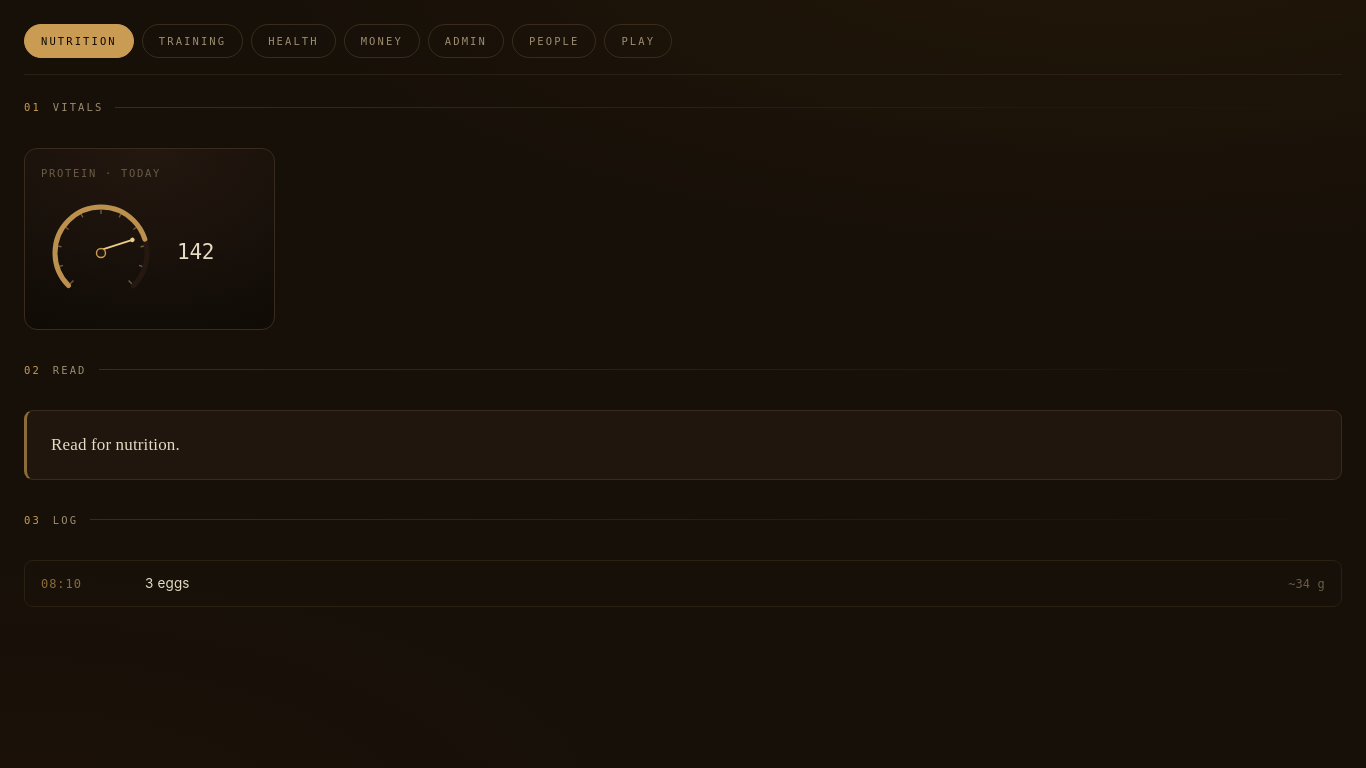
Test case: Domains surface › clicking another pill fetches that domain
Expected: the text "Read for nutrition." is shown, [51, 435, 180, 454]
Click the button "Training" at (192, 41), box [142, 24, 243, 58]
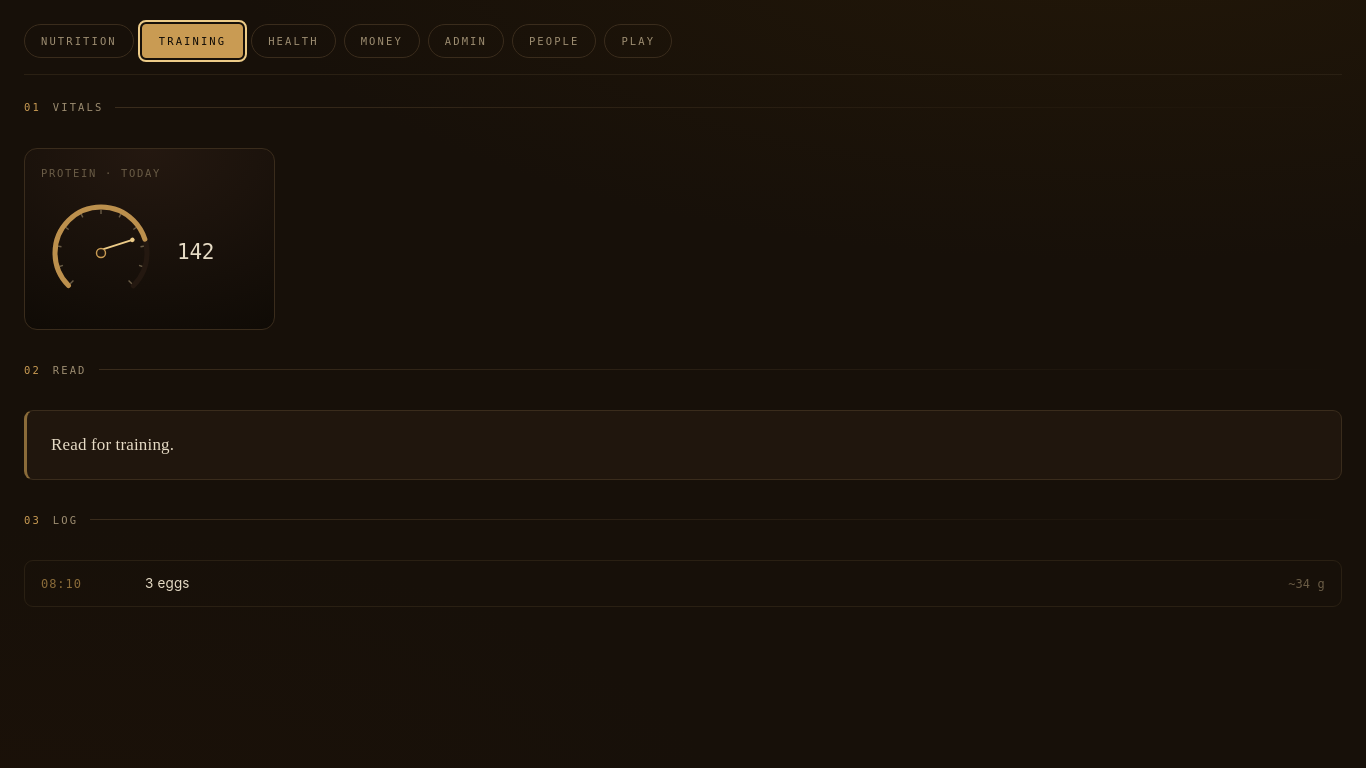
Expected: the text "Read for training." is shown, [51, 435, 174, 454]
